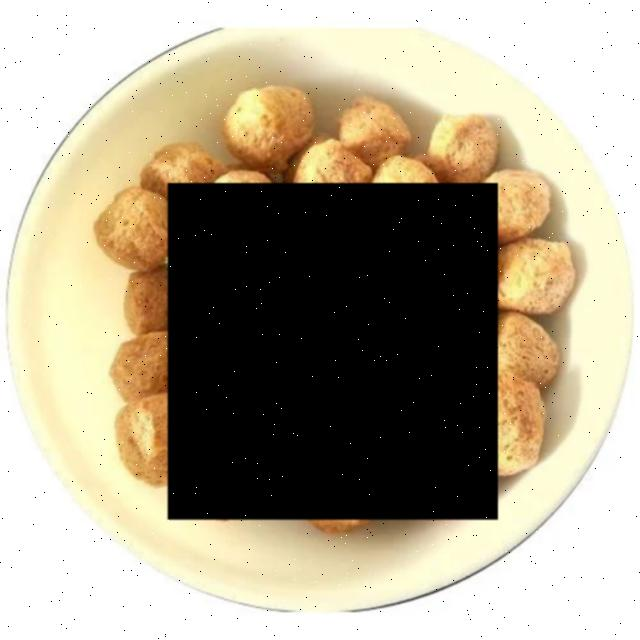Nutrela: (168, 183, 498, 520)
